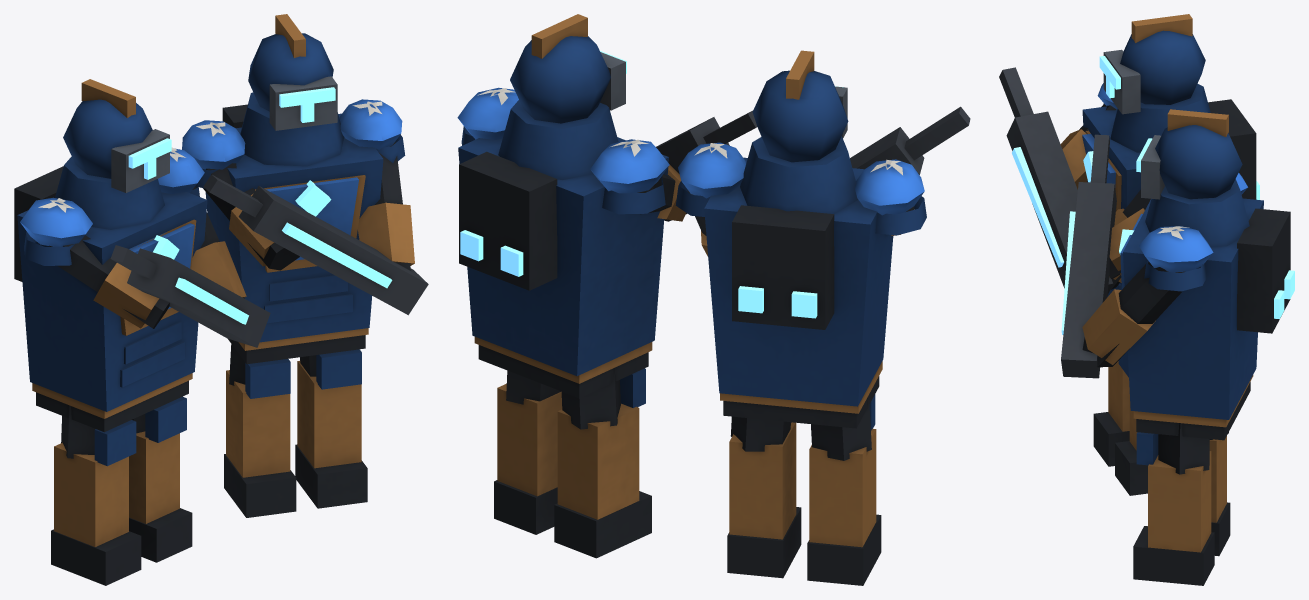
File: sentry_dl8_blue.glb
3 renders of one model, left to right at view 1: azimuth 30°, elevation 25°; view 2: azimuth 150°, elevation 25°; view 3: azimuth 270°, elevation 25°, orthographic. The views are drawn at different scales.
Parts seen in each view (by area): view 1: sentry_dl8_blue; view 2: sentry_dl8_blue; view 3: sentry_dl8_blue.
Boxes of the visible parts, box(x1,y1,x2,y2) form: sentry_dl8_blue: box(14, 14, 428, 585); sentry_dl8_blue: box(457, 14, 970, 585); sentry_dl8_blue: box(999, 14, 1294, 585).
Bounding box in the file's own units: 0.3692 × 0.4109 × 0.2479.
Materials: 2 (1 with a texture image).
